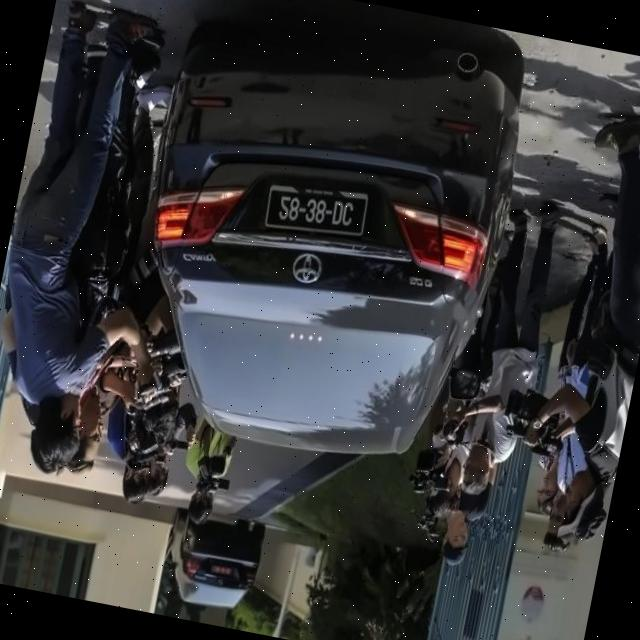License_Plate: (263, 178, 371, 260)
car: (106, 52, 521, 483)
